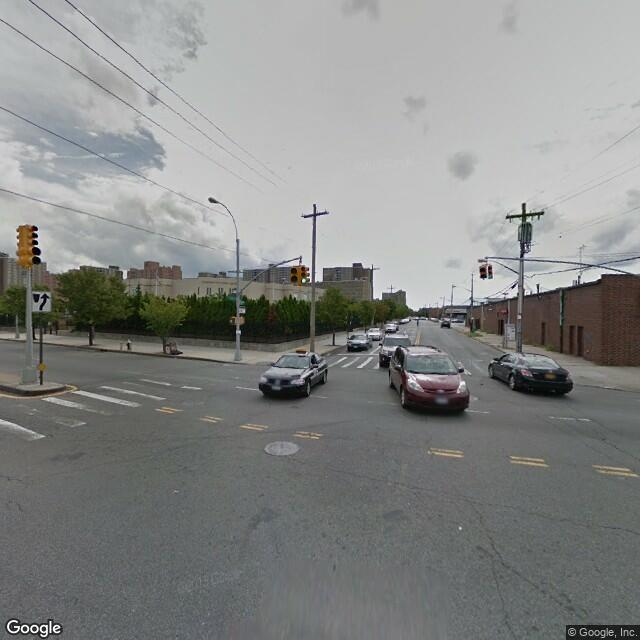litter: (458, 526, 464, 531), (173, 489, 179, 492)
